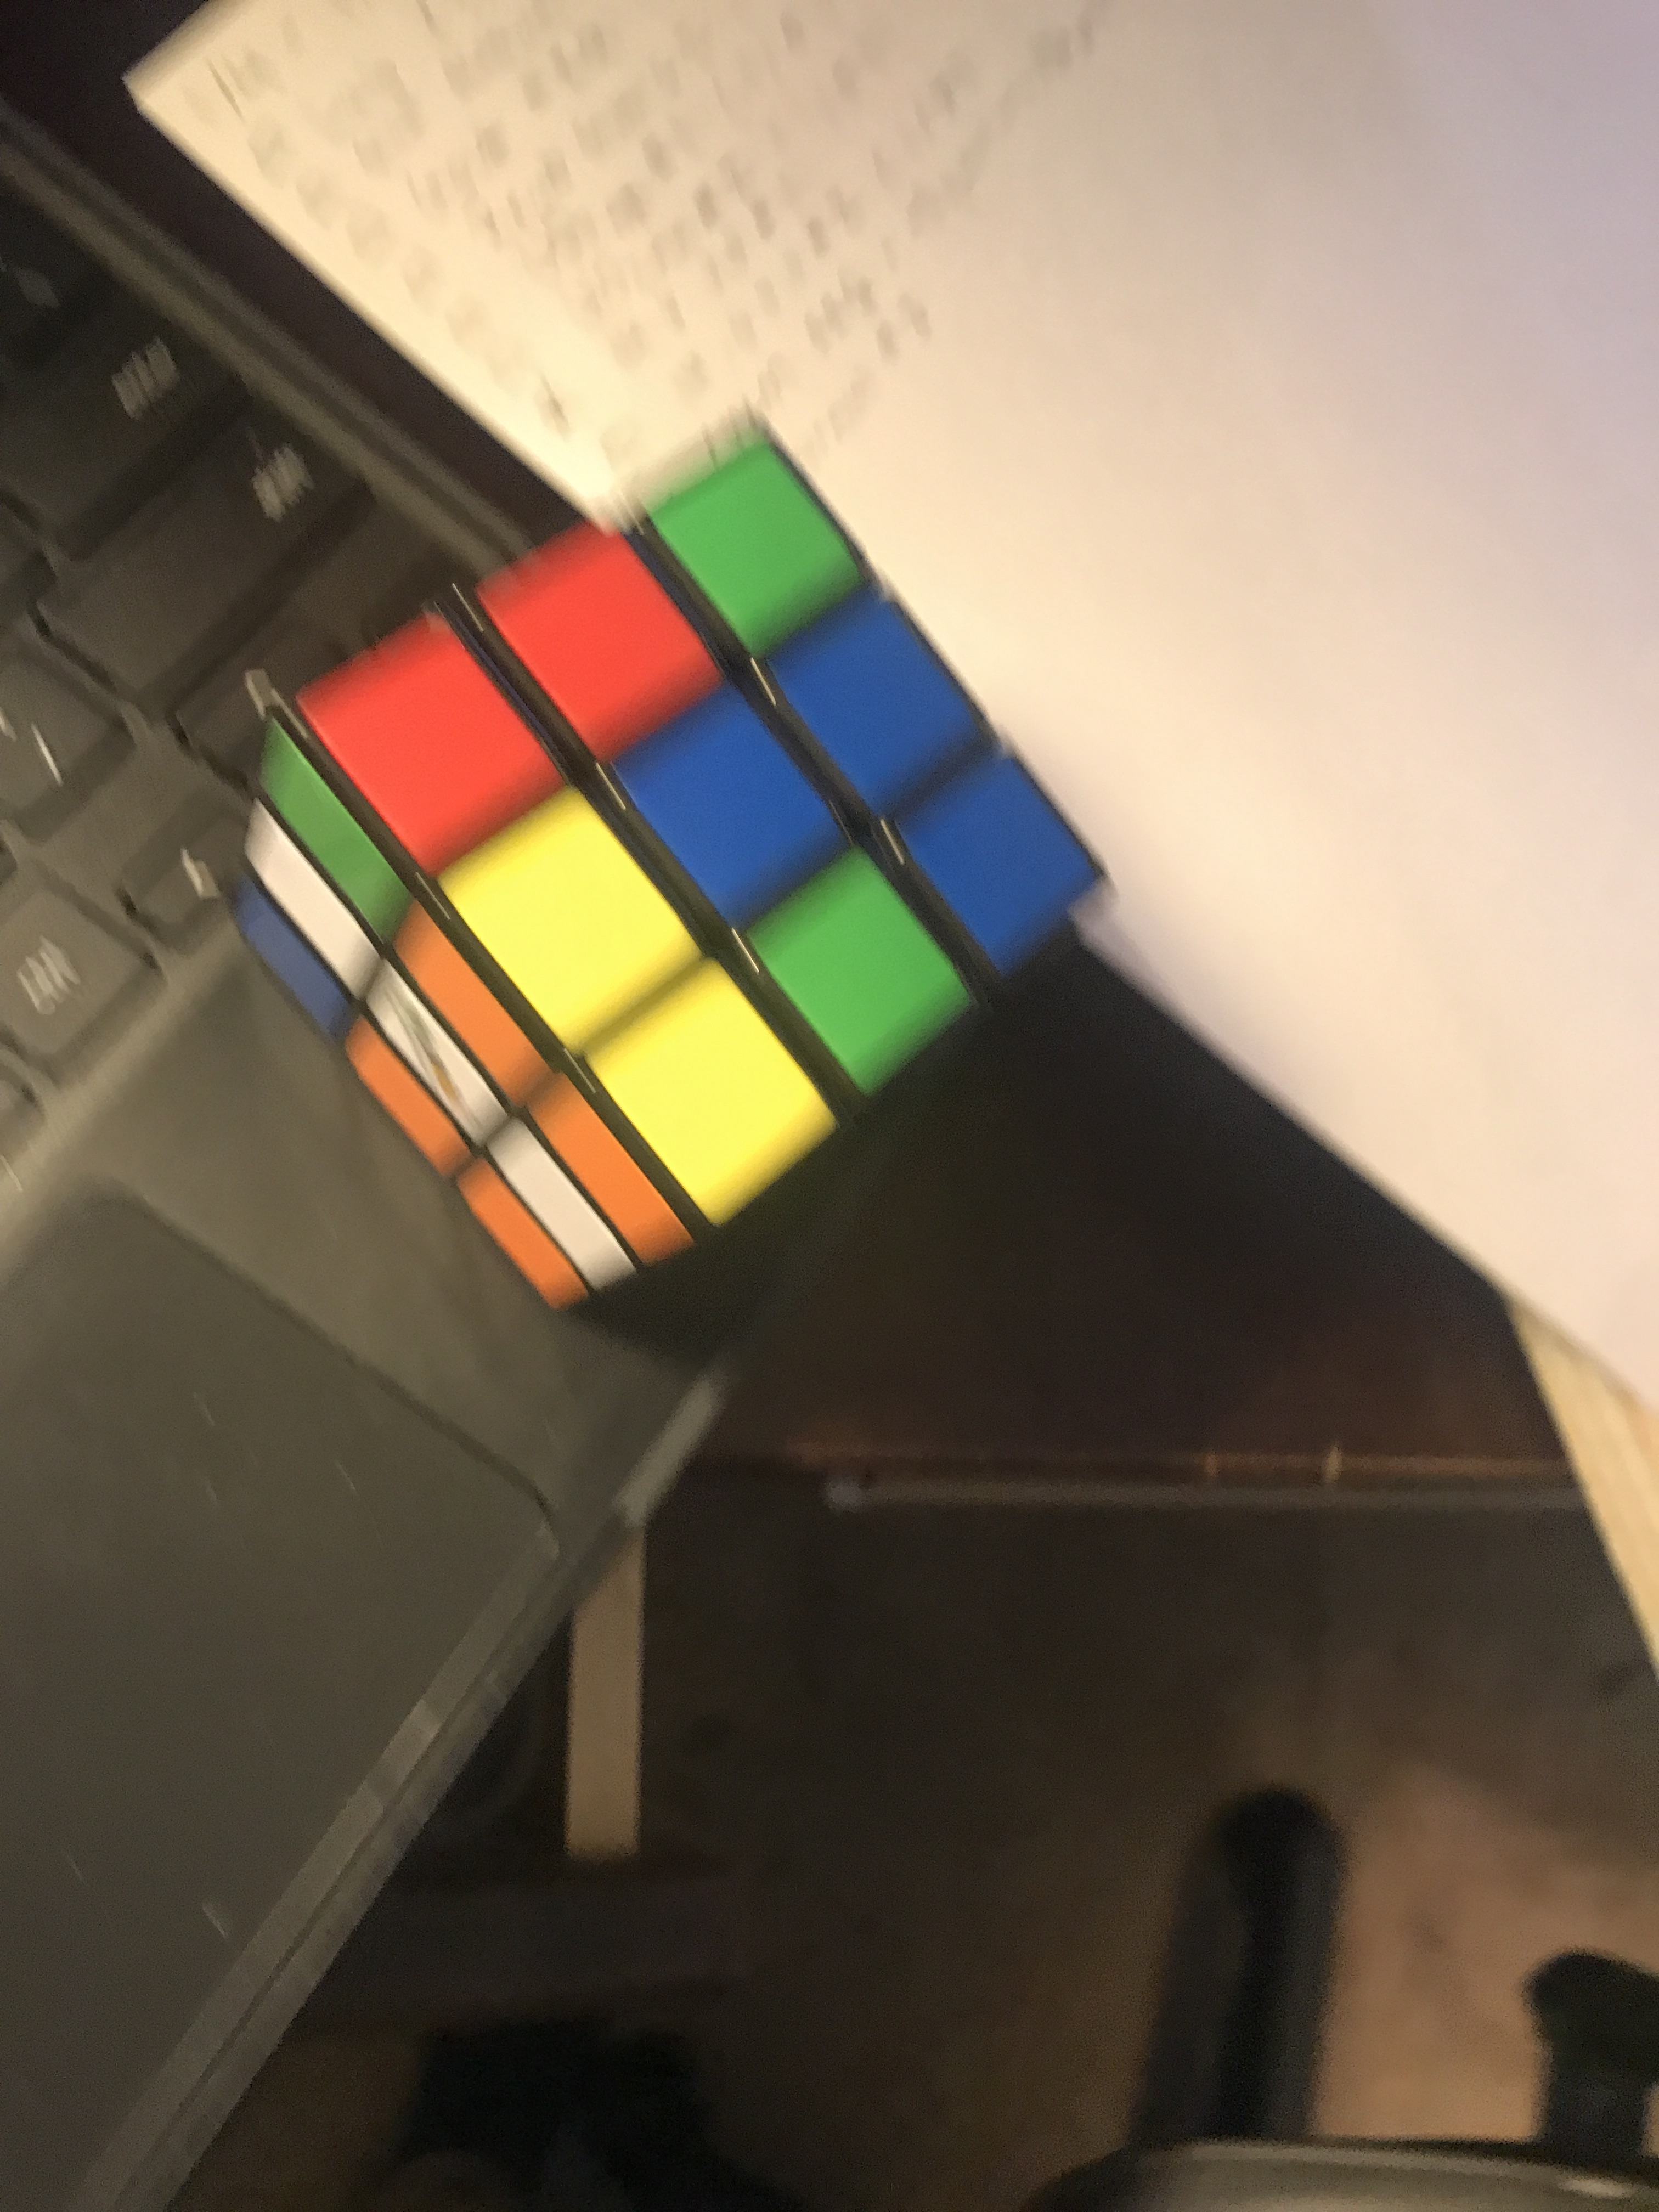rubiks: (223, 435, 1103, 1324)
